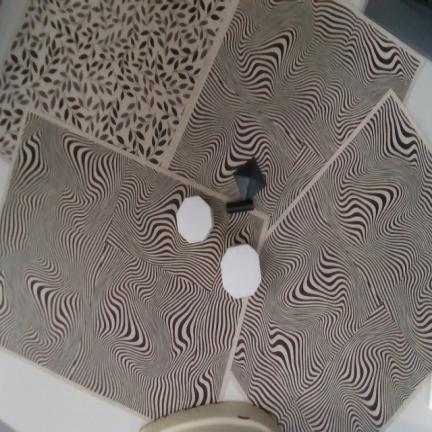Cilindro: (227, 201, 253, 213)
Piramide: (233, 158, 266, 203)
Prisma_hexagonal: (220, 243, 262, 298), (176, 196, 214, 244)
